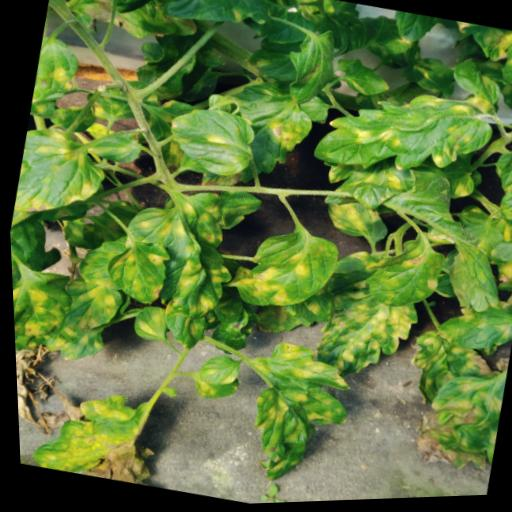Leaf Mold: (306, 31, 509, 197), (222, 335, 357, 496), (107, 183, 246, 329), (194, 74, 321, 206), (22, 376, 162, 490), (305, 272, 424, 393), (404, 354, 508, 479), (9, 259, 114, 367), (9, 120, 112, 227), (397, 325, 497, 419), (240, 224, 341, 317), (313, 142, 420, 221), (160, 100, 259, 183), (355, 232, 449, 319), (175, 181, 263, 258), (277, 23, 343, 112), (56, 187, 137, 259), (98, 234, 173, 309), (429, 297, 512, 361), (25, 34, 84, 124), (164, 0, 294, 40), (444, 21, 512, 97), (54, 273, 124, 340), (71, 227, 128, 292), (319, 245, 379, 303), (320, 197, 391, 245), (276, 277, 339, 330), (154, 295, 209, 355), (330, 55, 394, 103), (84, 124, 145, 168), (479, 221, 512, 297), (405, 55, 459, 100), (88, 84, 139, 126), (185, 369, 238, 405), (126, 302, 170, 344), (47, 100, 97, 136), (194, 351, 239, 390), (492, 161, 512, 230), (493, 130, 512, 202)
